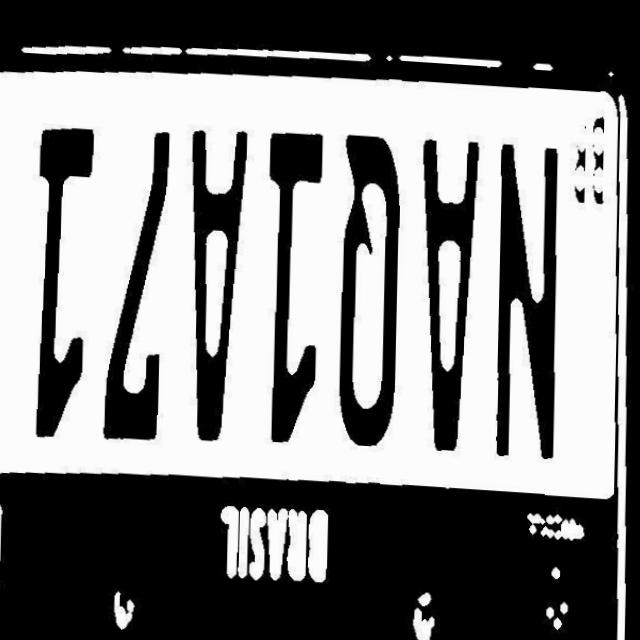1: (19, 122, 101, 428), (252, 124, 325, 443)
7: (97, 130, 179, 441)
a: (404, 127, 484, 449), (176, 122, 251, 440)
n: (484, 131, 566, 460)
q: (331, 120, 407, 441)
